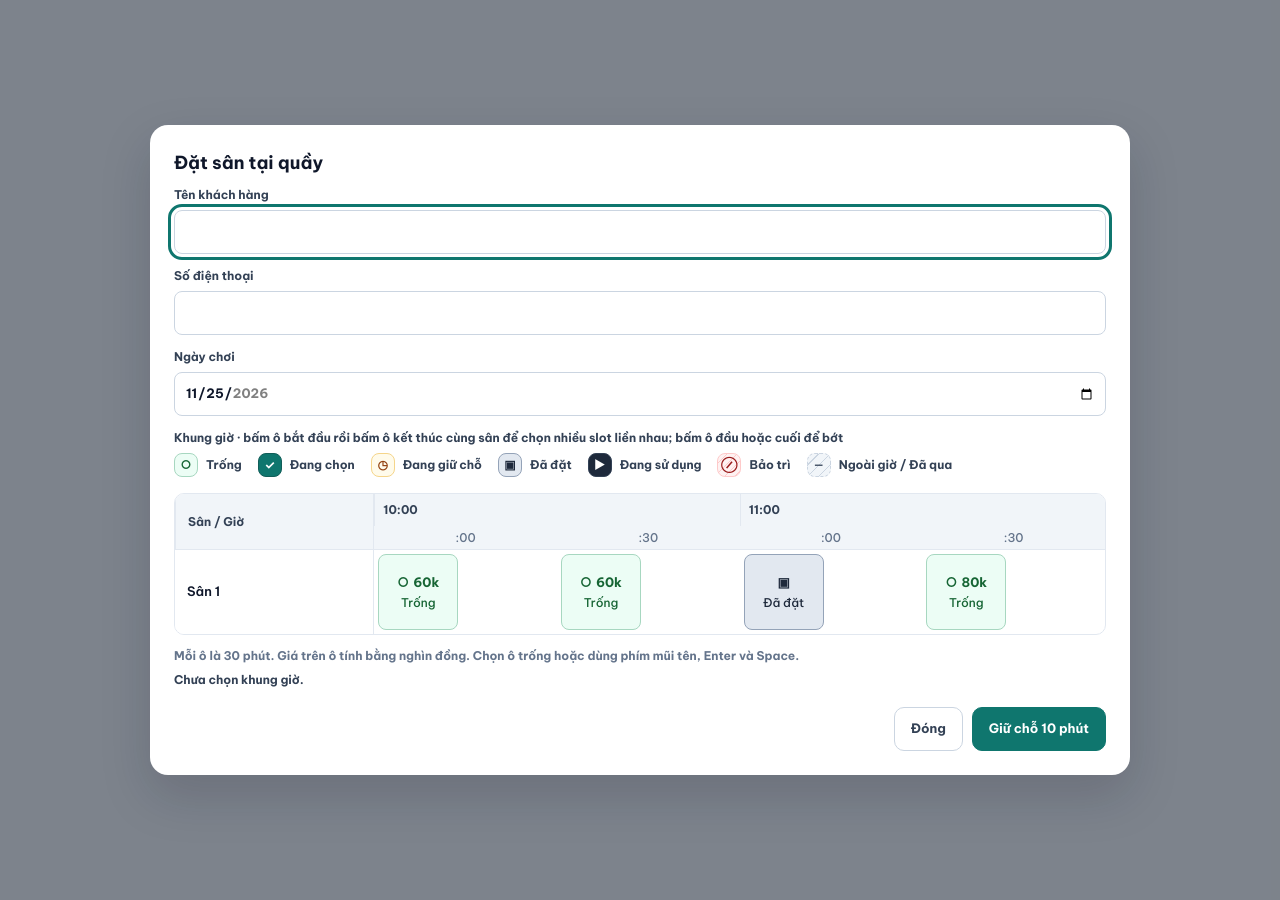
Test: chọn khung giờ › bấm ô đầu rồi ô cuối liền nhau thì chọn cả dải và hiện tổng tiền
Check: the table named "Lịch sân theo khung 30 phút" is shown, box [175,494,1105,634]
Click the 1st button "○ 60k Trống".
click(418, 592)  # box [378,554,458,630]
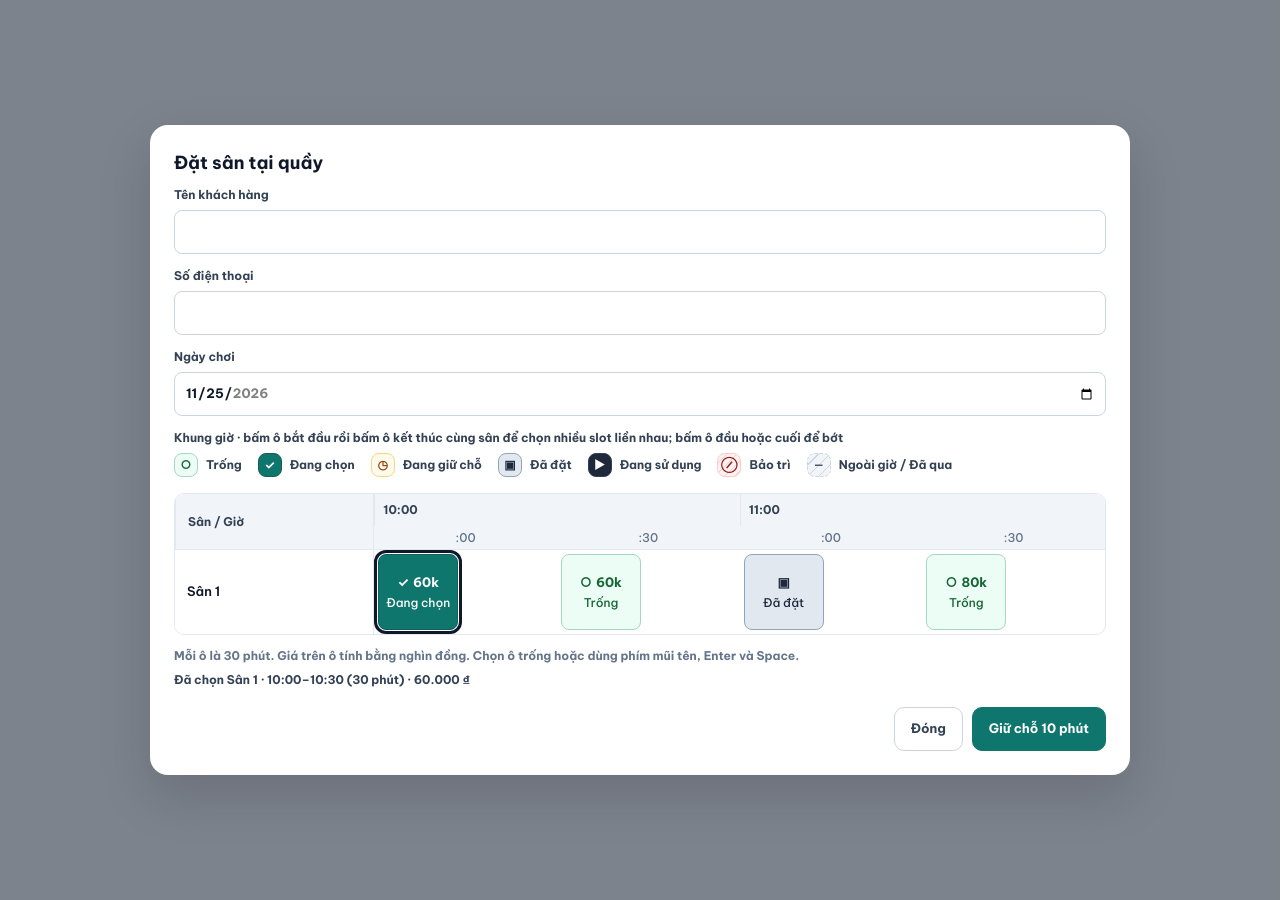
Click the button "○ 60k Trống".
click(601, 592)  # box [561,554,641,630]
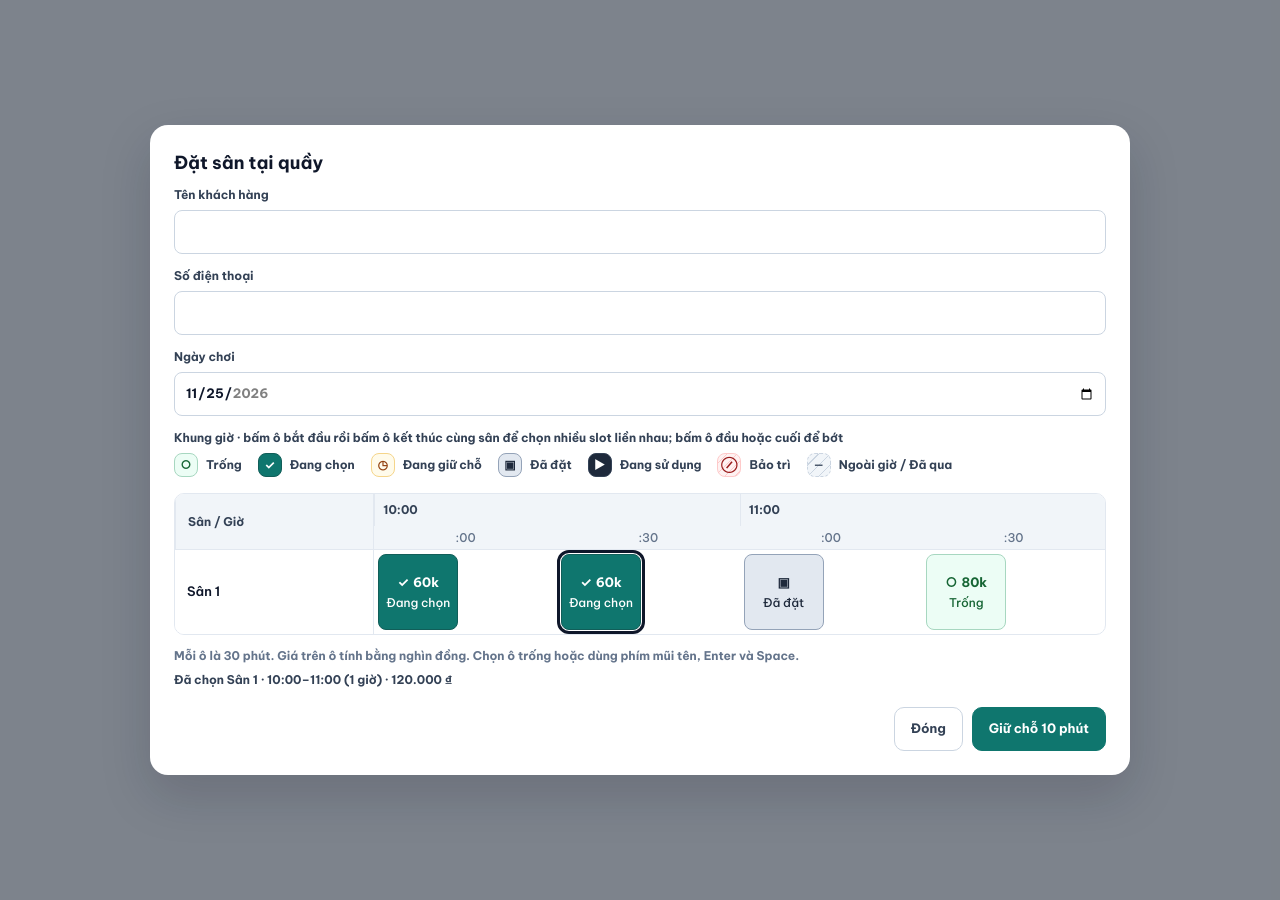
Check: the text "Đã chọn Sân 1 · 10:00–11:00 (1 giờ) · 120.000 ₫" is shown, box [174,672,452,687]
